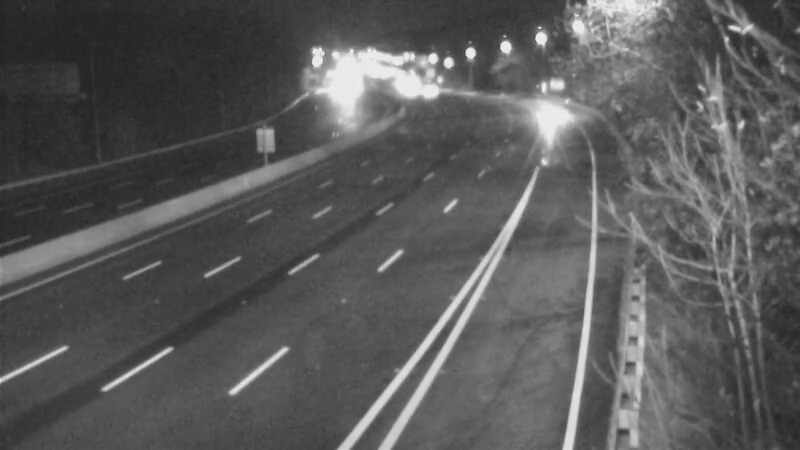vehicle: (538, 94, 588, 144)
